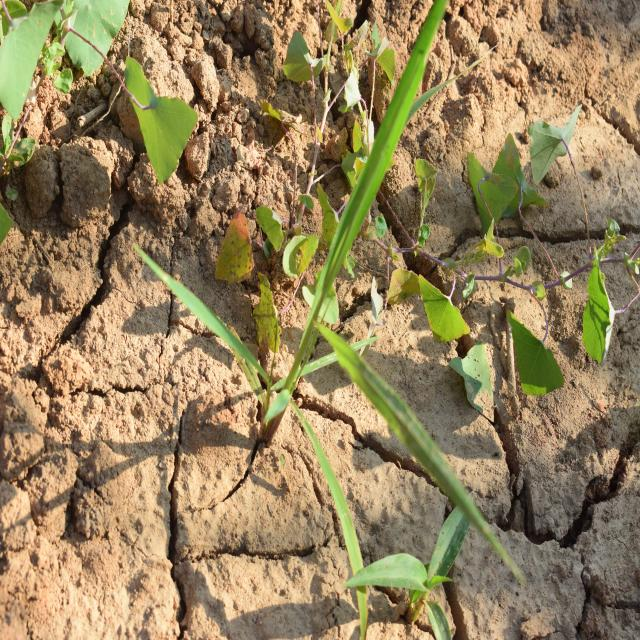green_foxtail: (227, 58, 467, 497)
